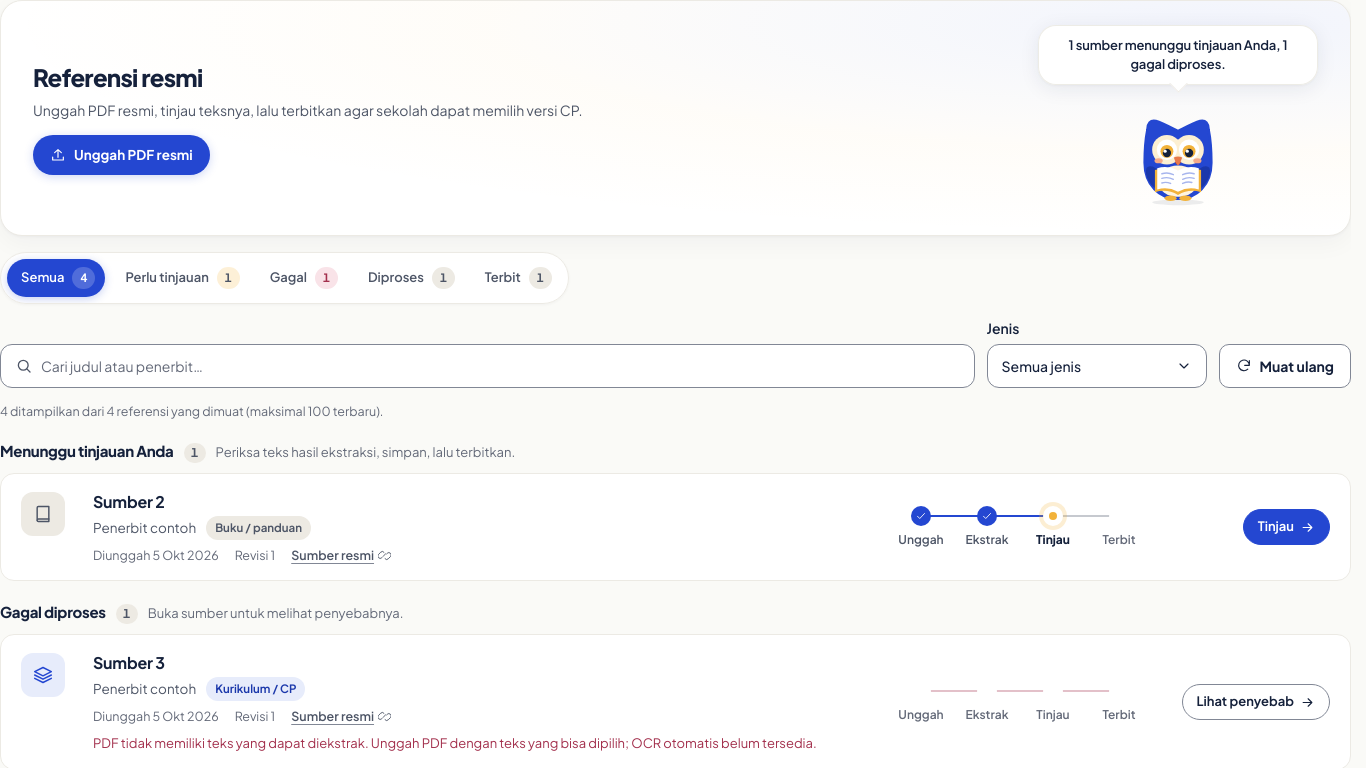
it: official reference submission and review › groups the library by what needs a person first, and filters by stage
Expected: the heading "Menunggu tinjauan Anda" is shown, [0, 440, 174, 462]
Expected: the text "1 sumber menunggu tinjauan Anda, 1 gagal diproses." is shown, [1038, 25, 1318, 85]
Click the button "Terbit 1": (516, 278) [471, 259, 562, 297]
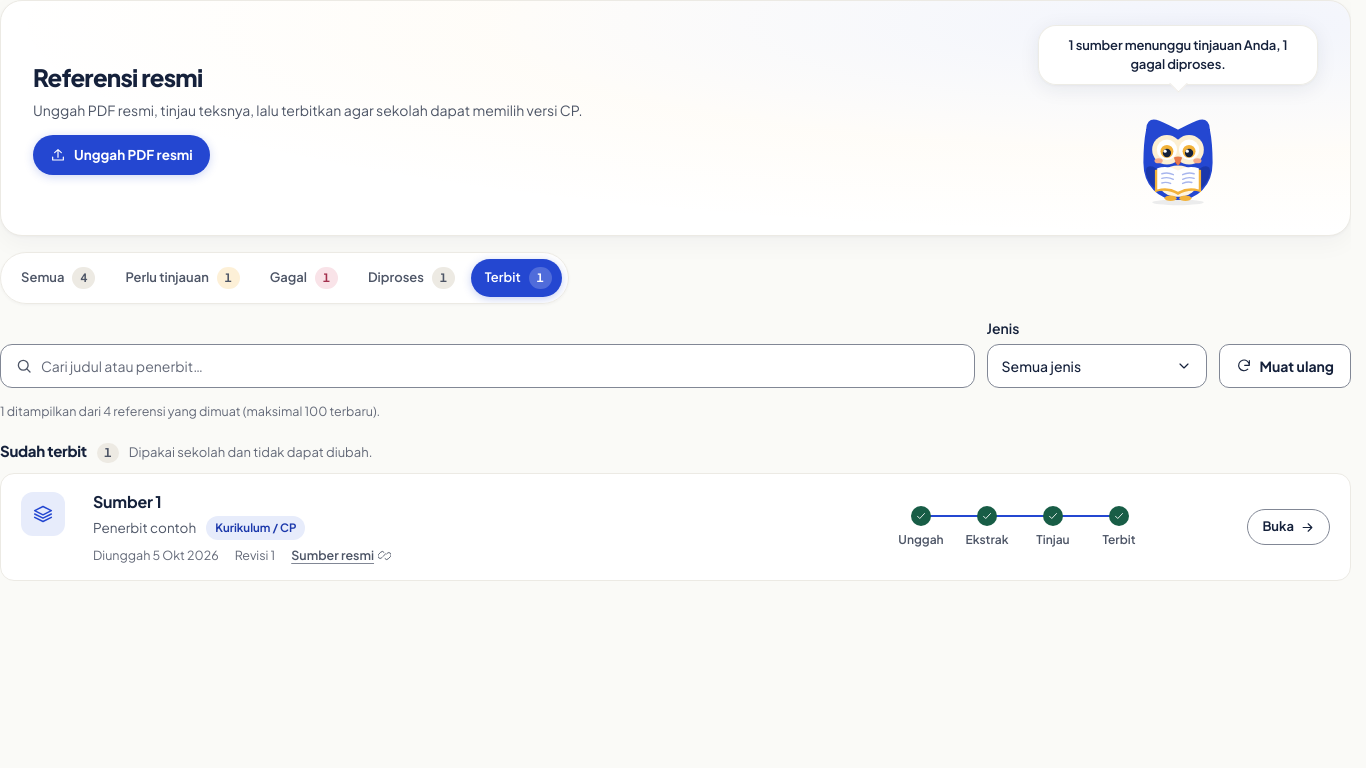
Expected: the headings read "Sudah terbit", in this order, [0, 440, 87, 462]
Expected: the link "Sumber 2" is gone
